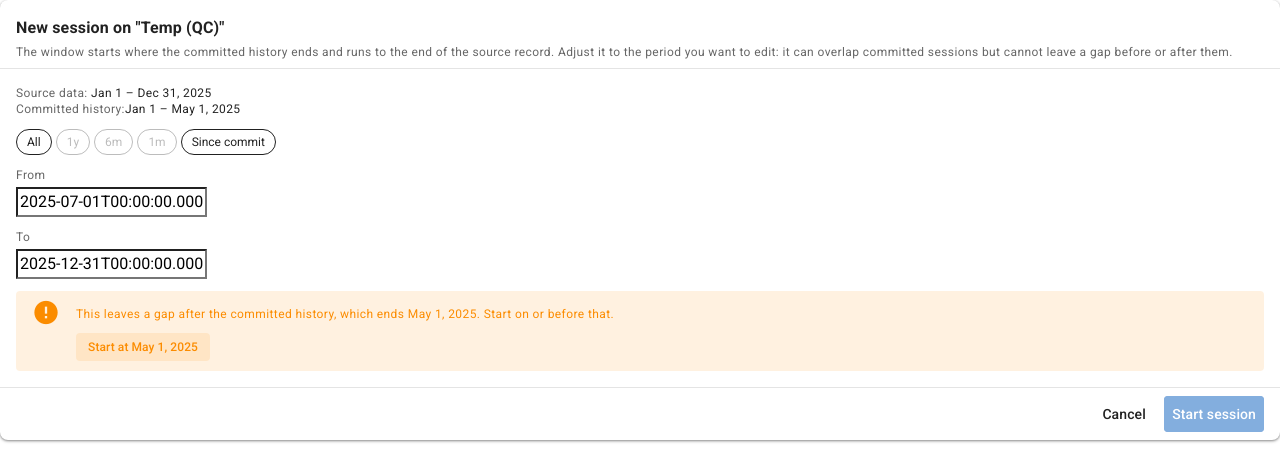
Test case: SessionWindowDialog one-click fix › offers the nearest valid start and leaves the end alone
What coordinates should you click on to do the following:
click the button with test id "session-window-fix"
I would click on:
 (143, 347)
Its box is [76,333,210,361].
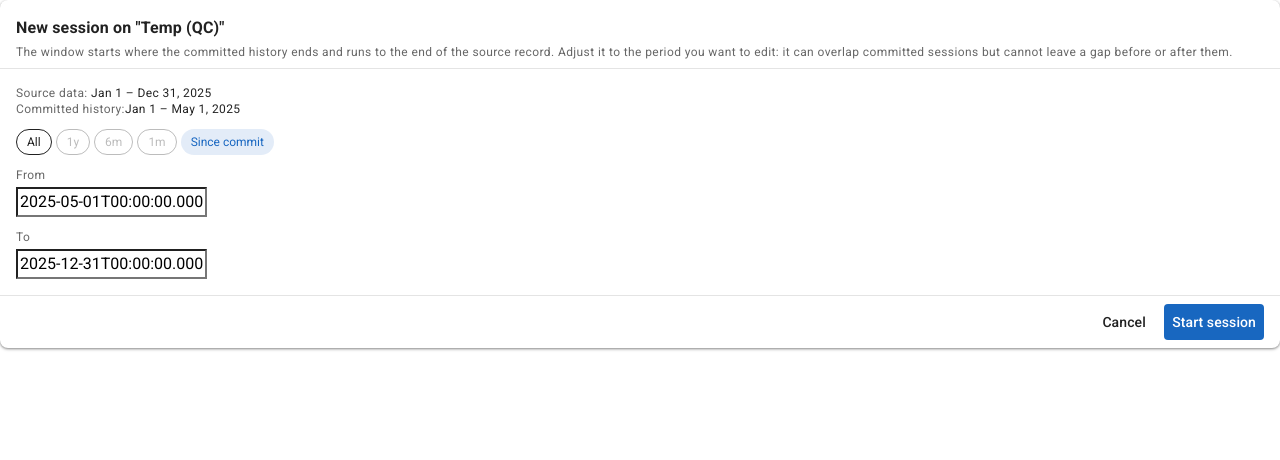
Now the button with test id "session-window-start" is enabled, box [1164,304,1264,340]
